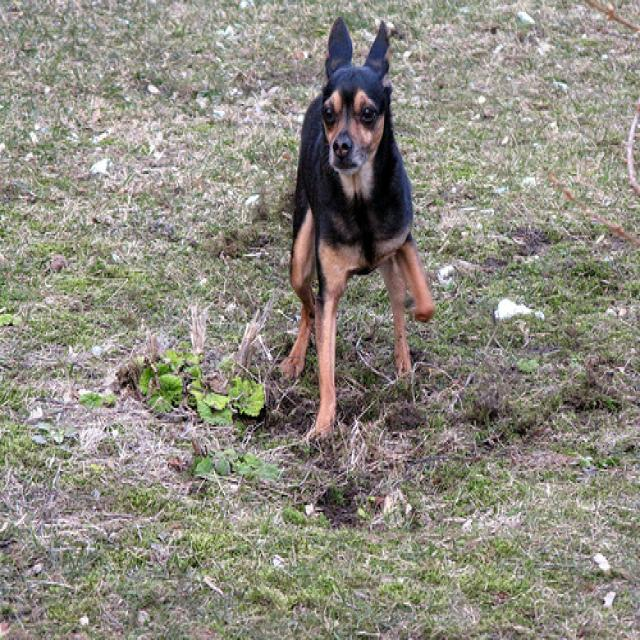dog-miniature_pinscher: (280, 9, 439, 444)
